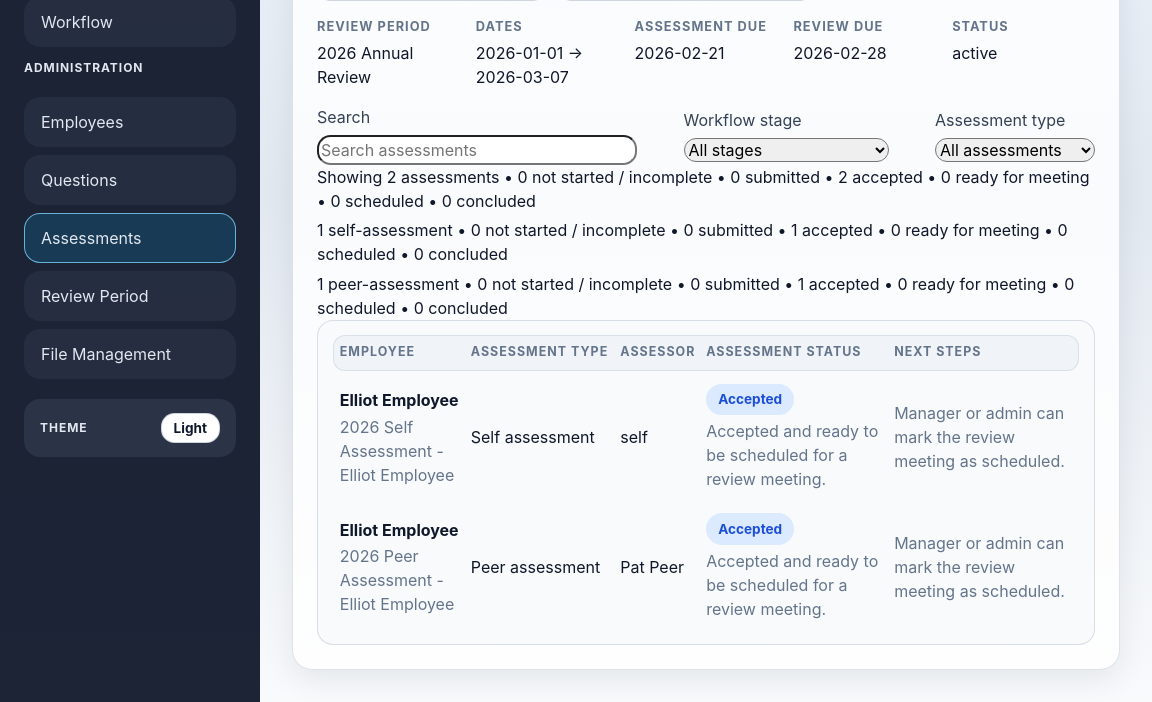
Test: workflow entry › opens assessment-set workflow actions from the admin assessments page
The image size is (1152, 702).
(page scrolled)
What coordinates should you click on to do the following:
click the 1st button with class "assessment-row-card-clickable"
I would click on:
 (706, 437)
Its box is [333,374,1079,501].
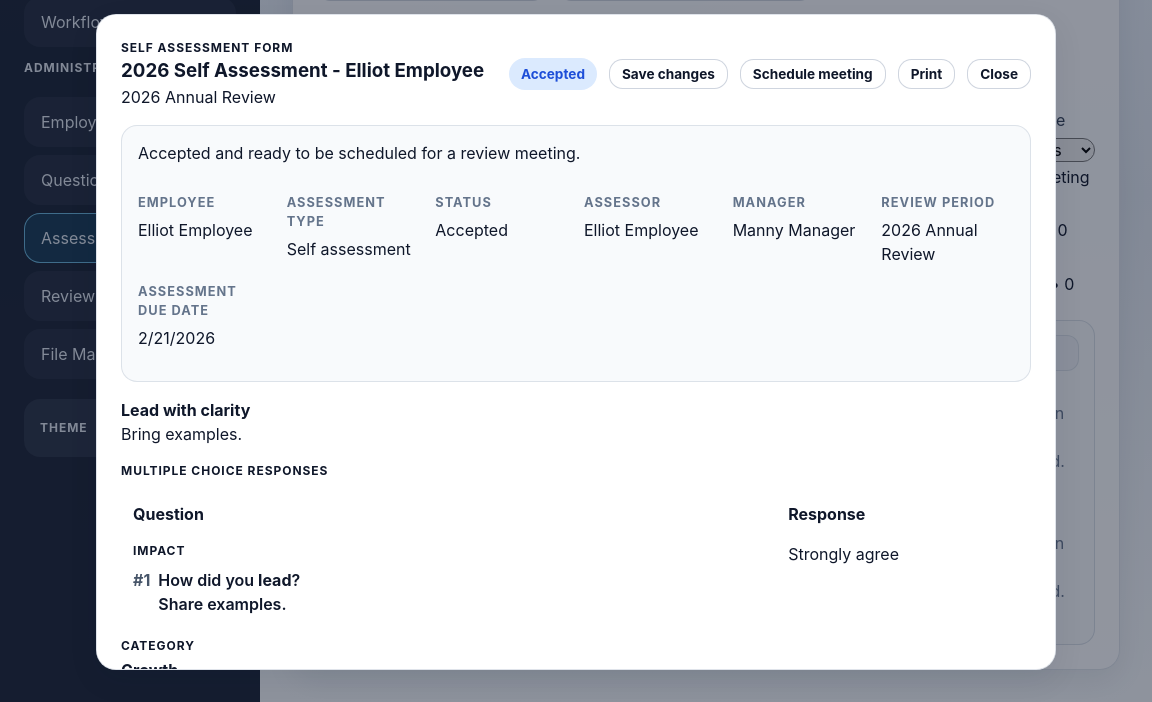
expect the text "Ready for meeting" is shown: met, box [317,167,1090,211]
expect the text "Schedule meeting" is shown: met, box [740,59,886,89]
